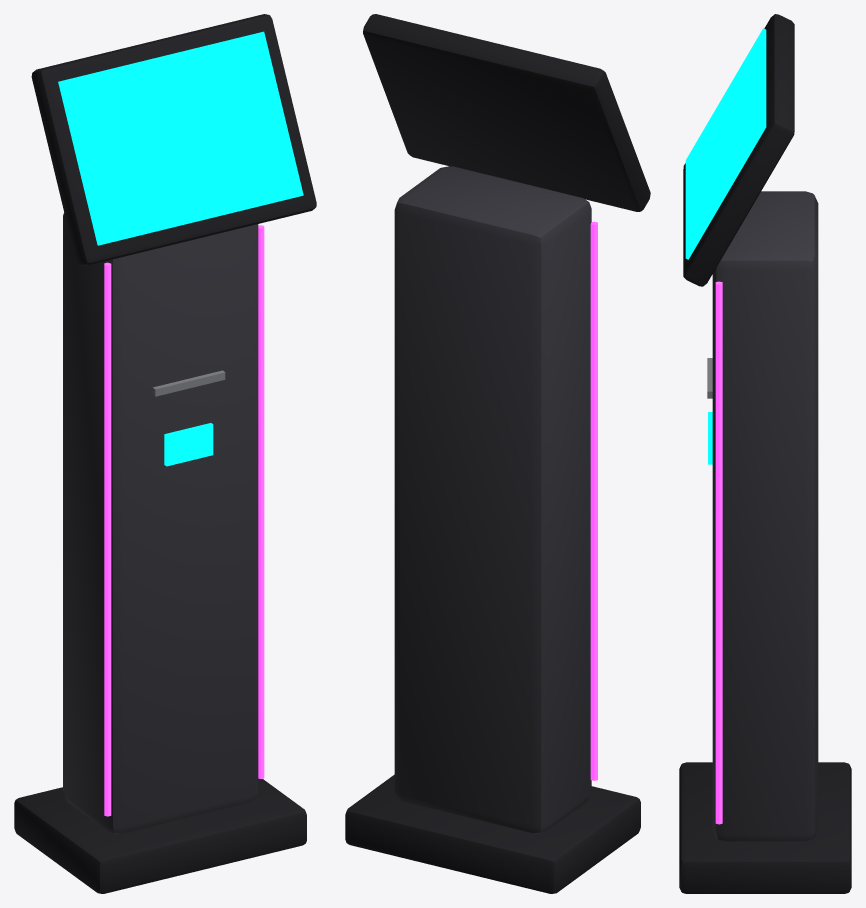
The model's file is KIT_Terminal.glb.
The picture shows the model from 3 angles, left to right: view 1: azimuth 30°, elevation 25°; view 2: azimuth 150°, elevation 25°; view 3: azimuth 270°, elevation 25°; orthographic projection. The views are drawn at different scales.
Parts seen in each view (by area): view 1: KIT_Terminal; view 2: KIT_Terminal; view 3: KIT_Terminal.
Boxes of the visible parts, x1,y1,x2,y2 form: KIT_Terminal: (14,14,316,893); KIT_Terminal: (345,14,650,893); KIT_Terminal: (679,14,851,893).
Size of the model in its own units: 0.4 by 1.3 by 0.26.
